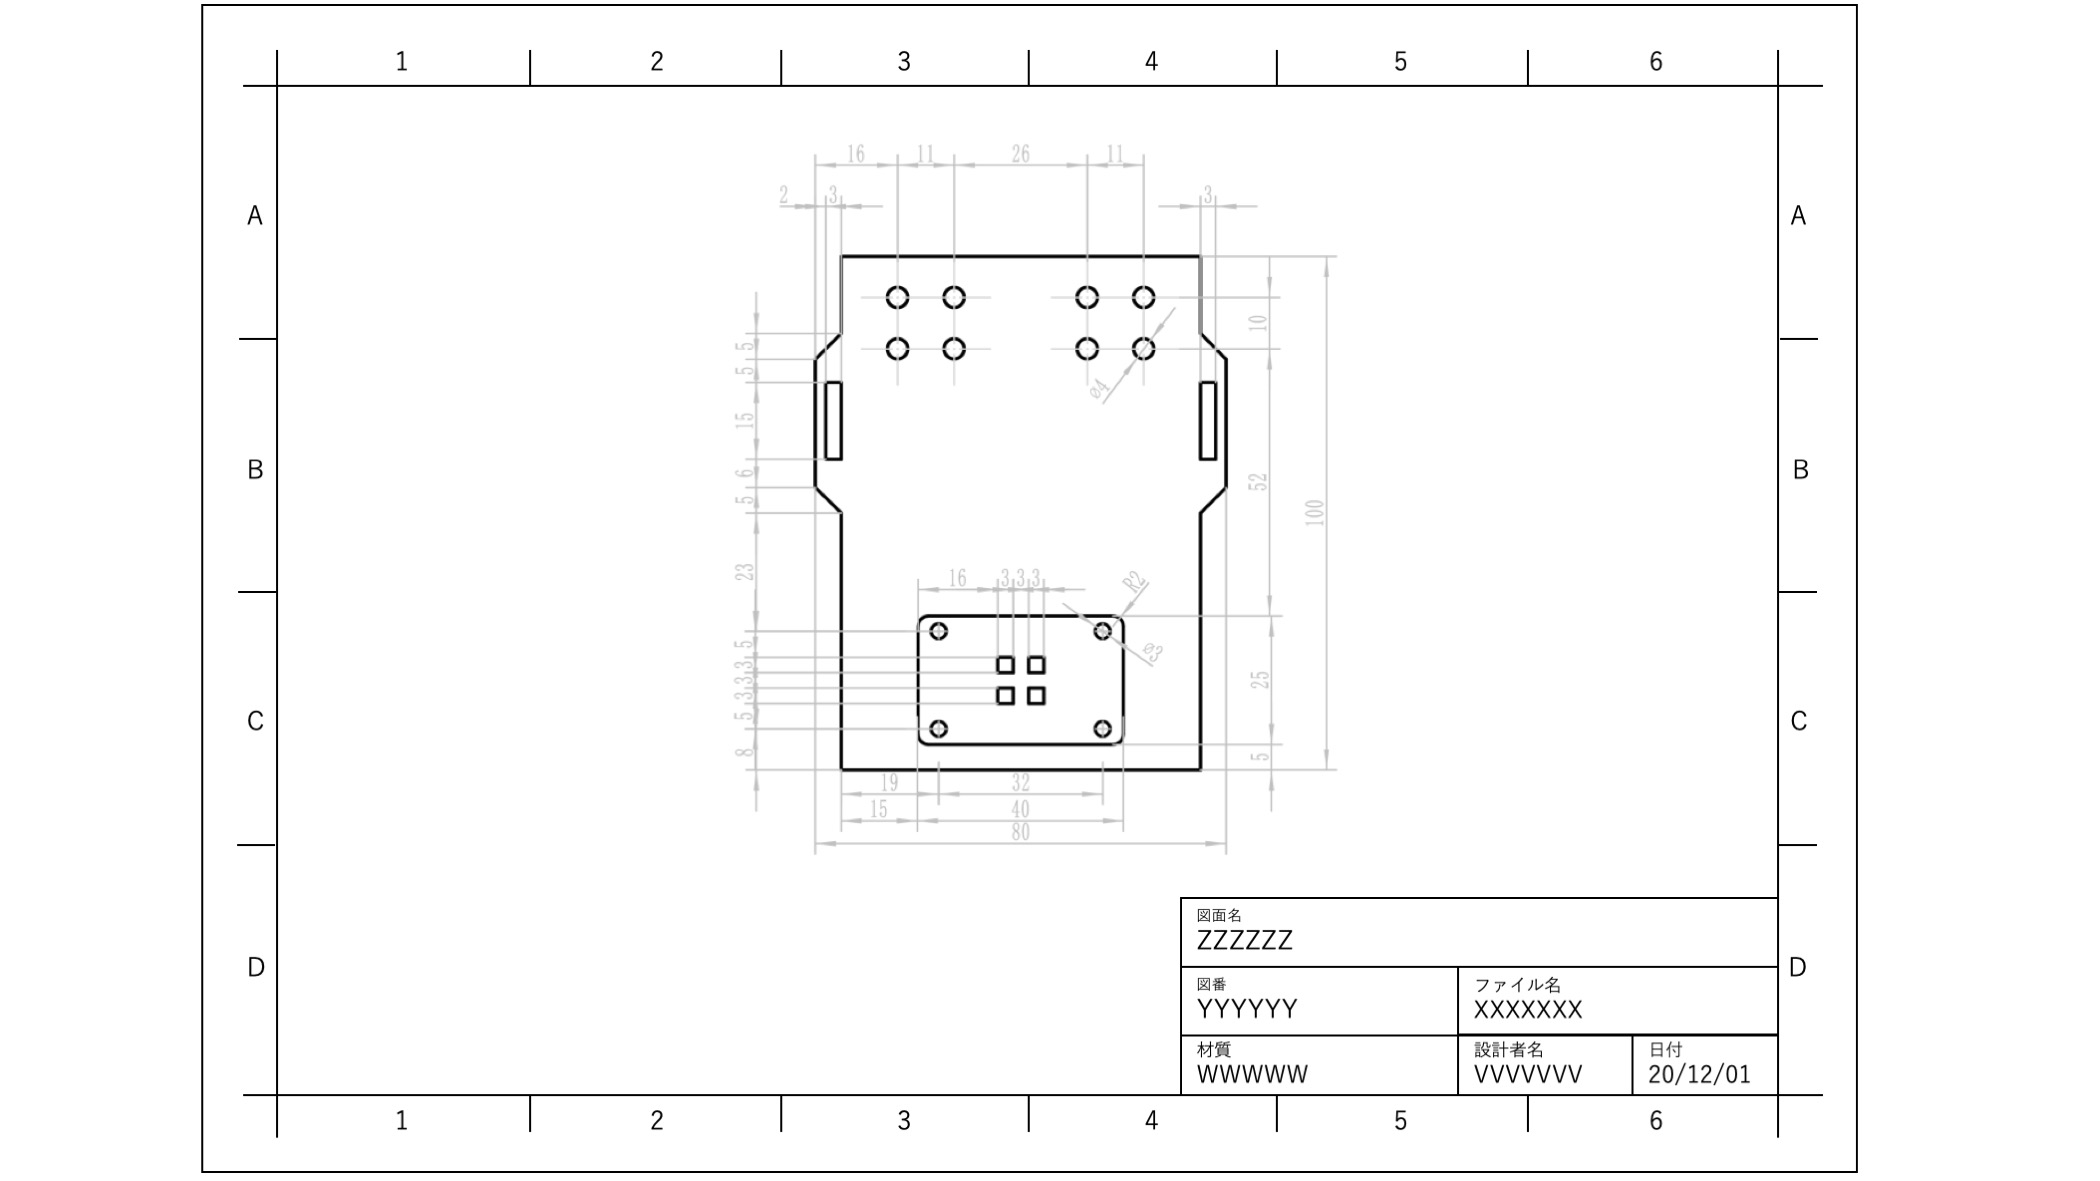circle: (937, 333, 971, 362), (878, 283, 910, 311), (939, 283, 971, 311), (881, 333, 912, 362), (1069, 333, 1100, 361), (1069, 283, 1100, 309), (1128, 283, 1155, 310), (1129, 336, 1155, 362), (1089, 718, 1116, 740), (926, 619, 949, 642), (925, 720, 950, 738), (1090, 619, 1111, 642)
rectangle: (1196, 375, 1222, 472), (822, 376, 847, 460), (1023, 682, 1051, 708), (992, 652, 1015, 679), (1023, 653, 1049, 676), (994, 686, 1020, 709)
